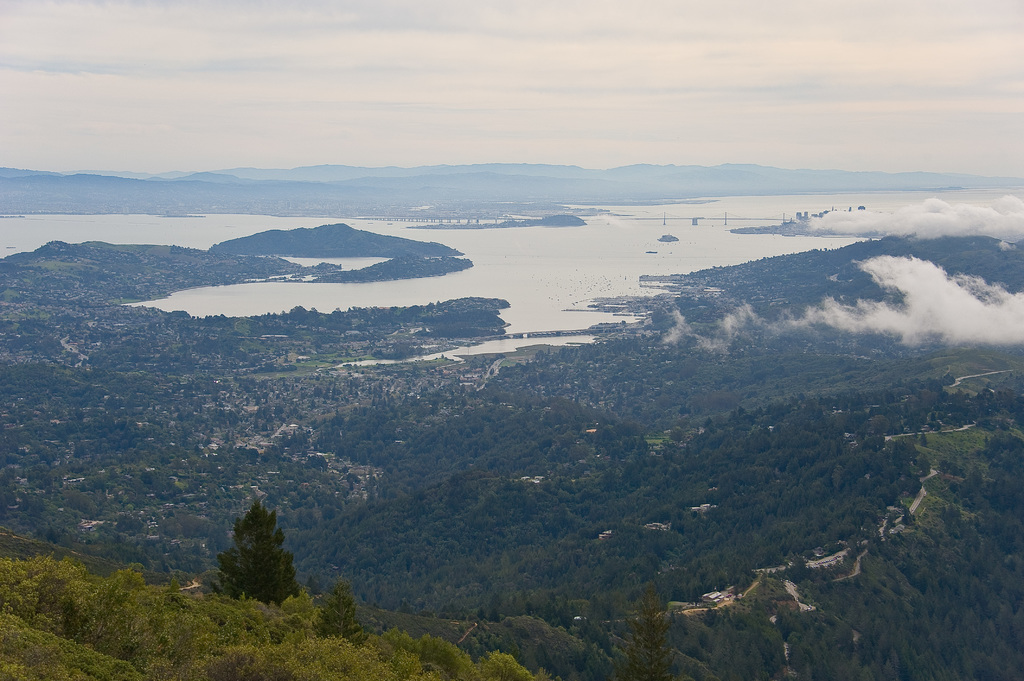Tree: (0, 374, 1016, 680), (176, 496, 336, 616)
